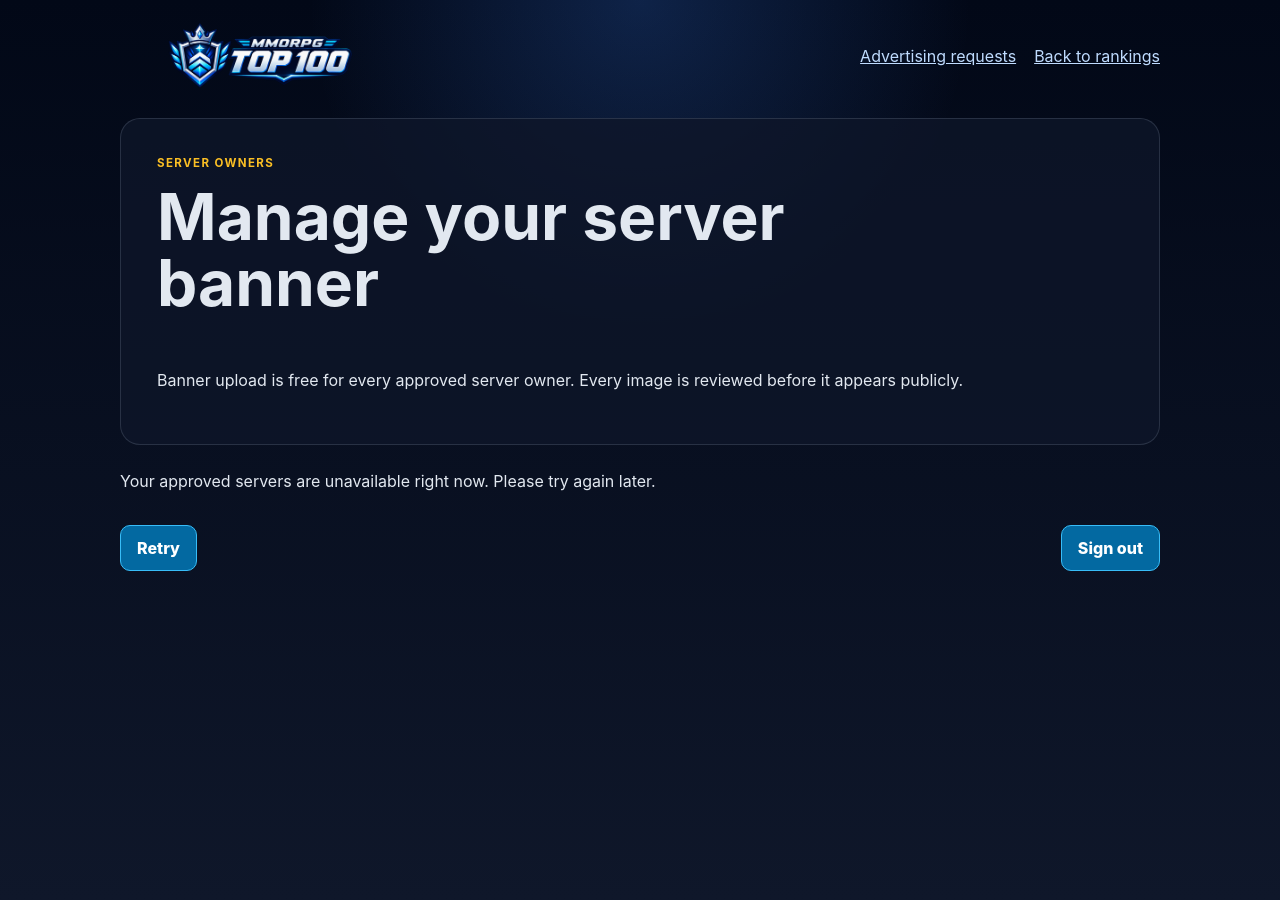
Test case: shows a plain failure state without exposing implementation details
expect the message shows "approved servers are unavailable": met, box [120, 471, 656, 491]
Click the button "Retry" at x=158, y=548, box [120, 525, 197, 571]
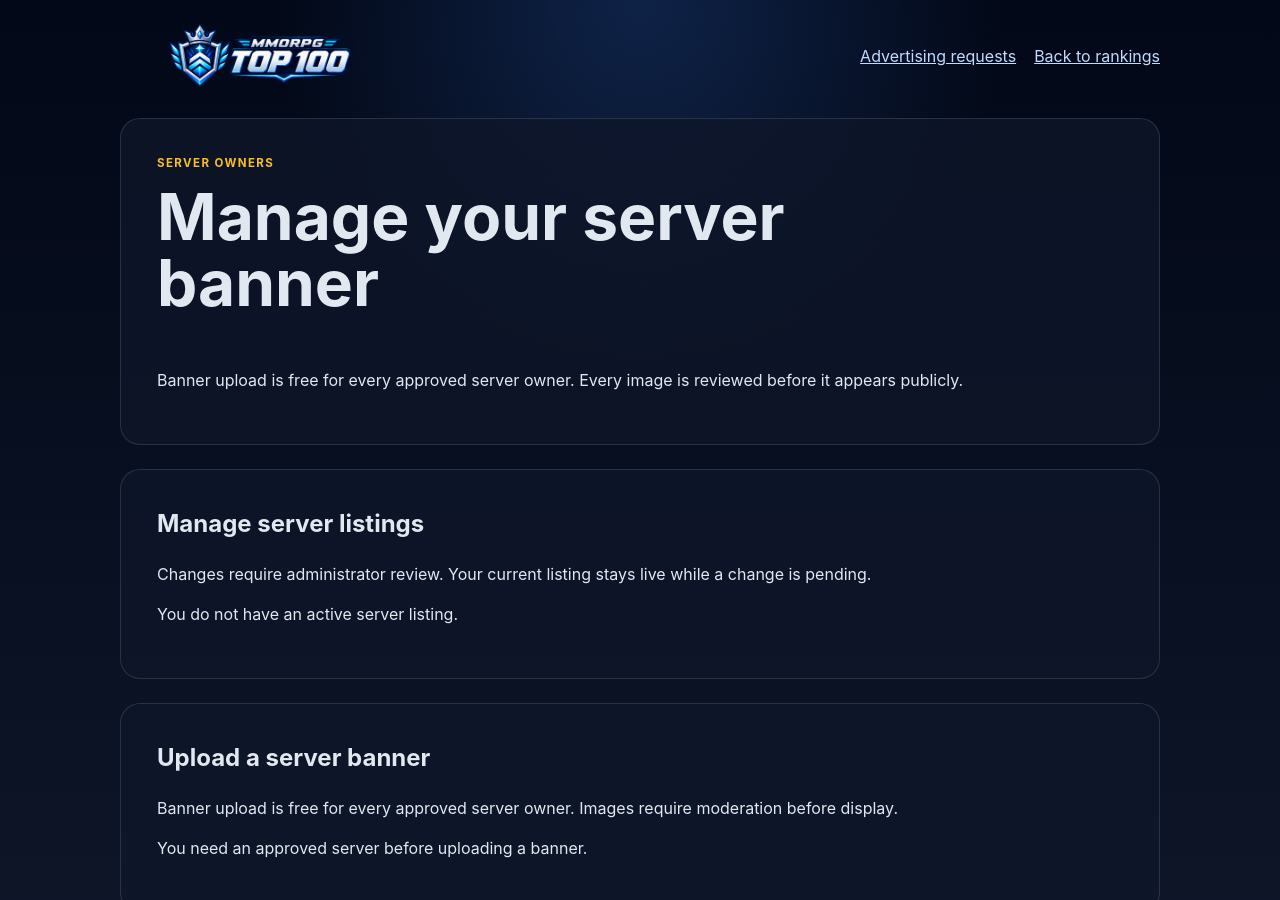
expect the text "You need an approved server before uploading a banner." is shown: met, box [157, 838, 587, 858]
